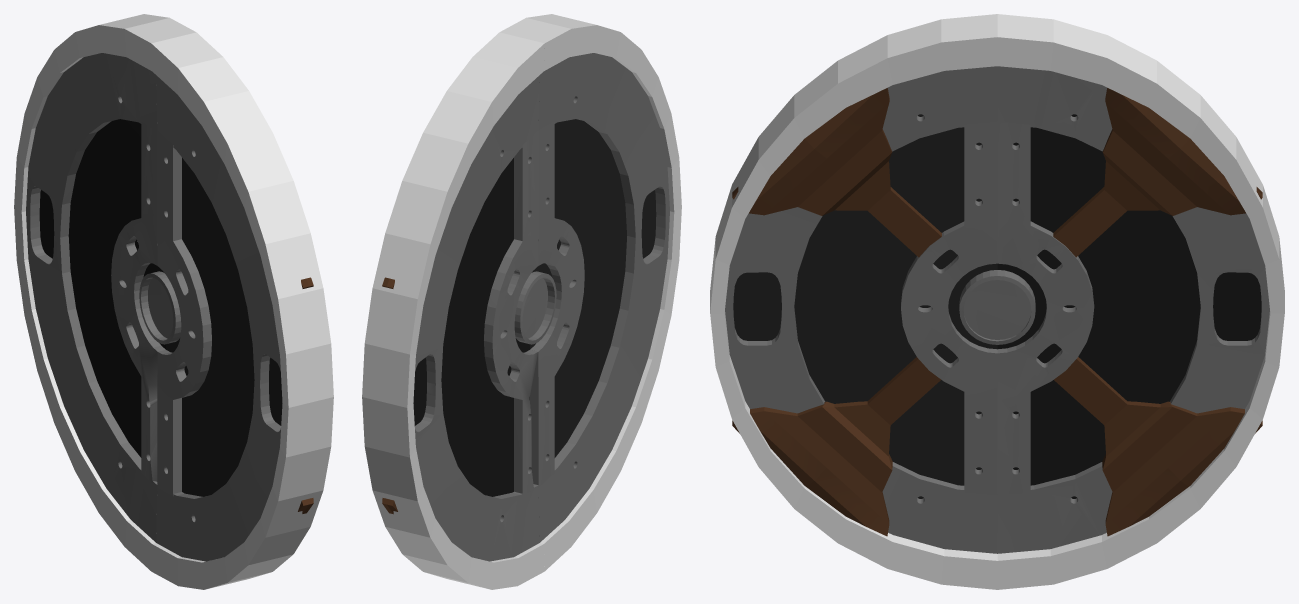
Rendered from Circle_Wall_Next_To_Main_Entrance_Cil_Balcony_Door.fbx.
The picture shows the model from 3 angles, left to right: view 1: azimuth 30°, elevation 25°; view 2: azimuth 150°, elevation 25°; view 3: azimuth 270°, elevation 25°; orthographic projection. The views are drawn at different scales.
Visible parts, largest first — view 1: Door_3_StandAlone_471.005, Door_3_StandAlone_471.003, Cylinder.003, Cylinder.002; view 2: Door_3_StandAlone_471.003, Door_3_StandAlone_471.005, Cylinder.002, Cylinder.003; view 3: Door_3_StandAlone_471.005, Door_3_StandAlone_471.003, Cylinder.003, Cylinder.002.
Boxes of the visible parts, left/top/right/bottom form: Door_3_StandAlone_471.005: left=26, top=53, right=181, bottom=542; Door_3_StandAlone_471.003: left=156, top=75, right=313, bottom=561; Cylinder.003: left=151, top=32, right=333, bottom=589; Cylinder.002: left=14, top=14, right=195, bottom=570; Door_3_StandAlone_471.003: left=530, top=48, right=669, bottom=542; Door_3_StandAlone_471.005: left=382, top=75, right=556, bottom=561; Cylinder.002: left=362, top=32, right=544, bottom=589; Cylinder.003: left=500, top=14, right=681, bottom=570; Door_3_StandAlone_471.005: left=959, top=66, right=1269, bottom=553; Door_3_StandAlone_471.003: left=725, top=66, right=997, bottom=553; Cylinder.003: left=710, top=14, right=997, bottom=589; Cylinder.002: left=997, top=14, right=1284, bottom=589.
Bounding box in the file's own units: 58.33 × 650 × 612.
